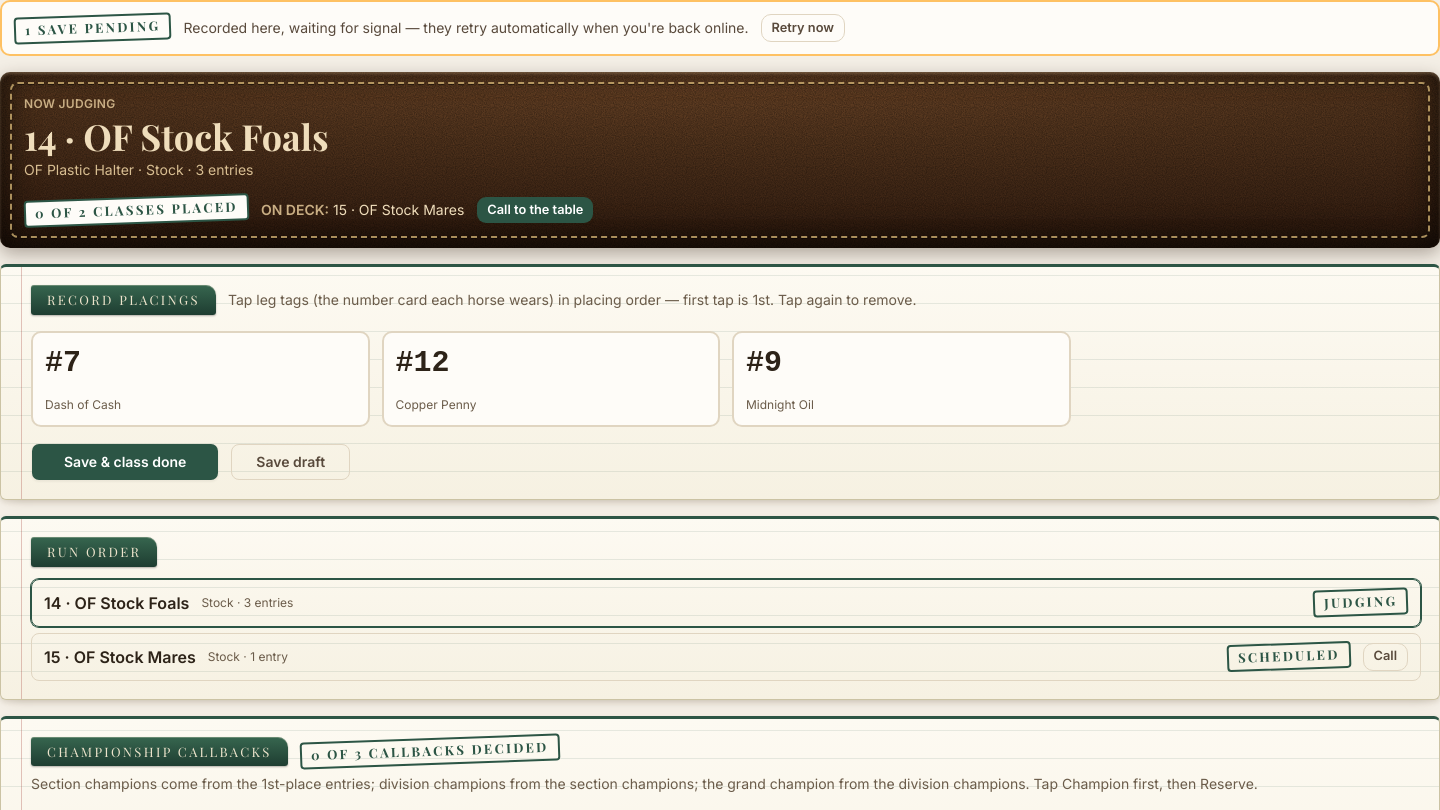
Test: RingConsole — Barn Mode (offline queue) › 'Retry now' flushes the queue when the network returns
Check: the message with test id "pending-saves" shows "1 save pending", box [0,0,1439,56]
What coordinates should you click on to do the following:
click the button "Retry now"
I would click on:
 (803, 28)
Its box is [760,14,845,42].
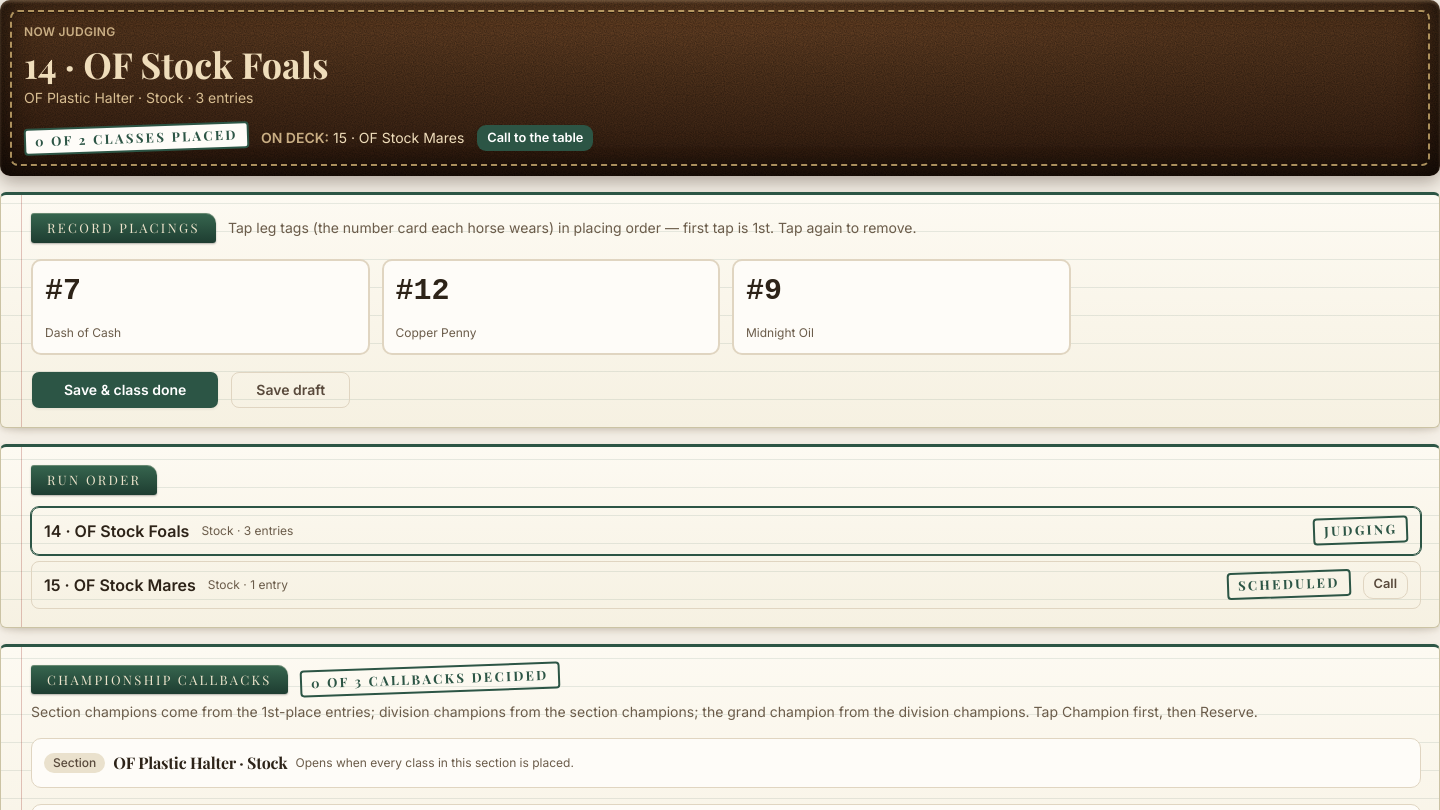
Check: the message with test id "pending-saves" is gone
